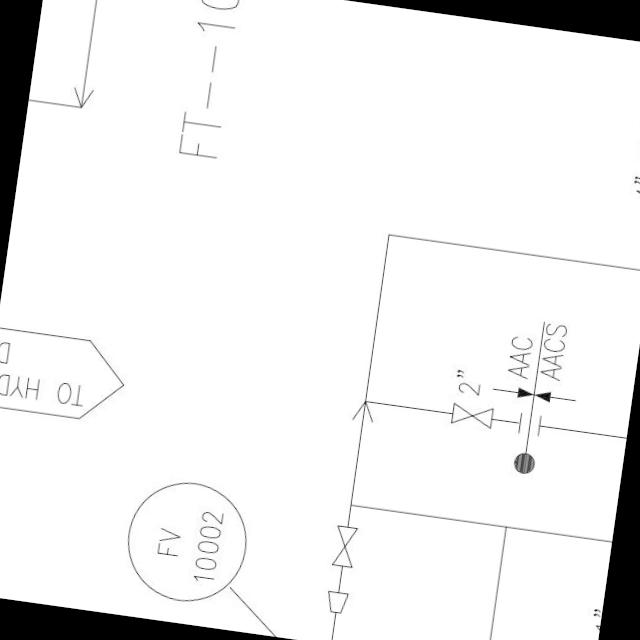GV: (326, 522, 361, 574), (444, 398, 496, 432)
SP: (319, 588, 351, 620)
